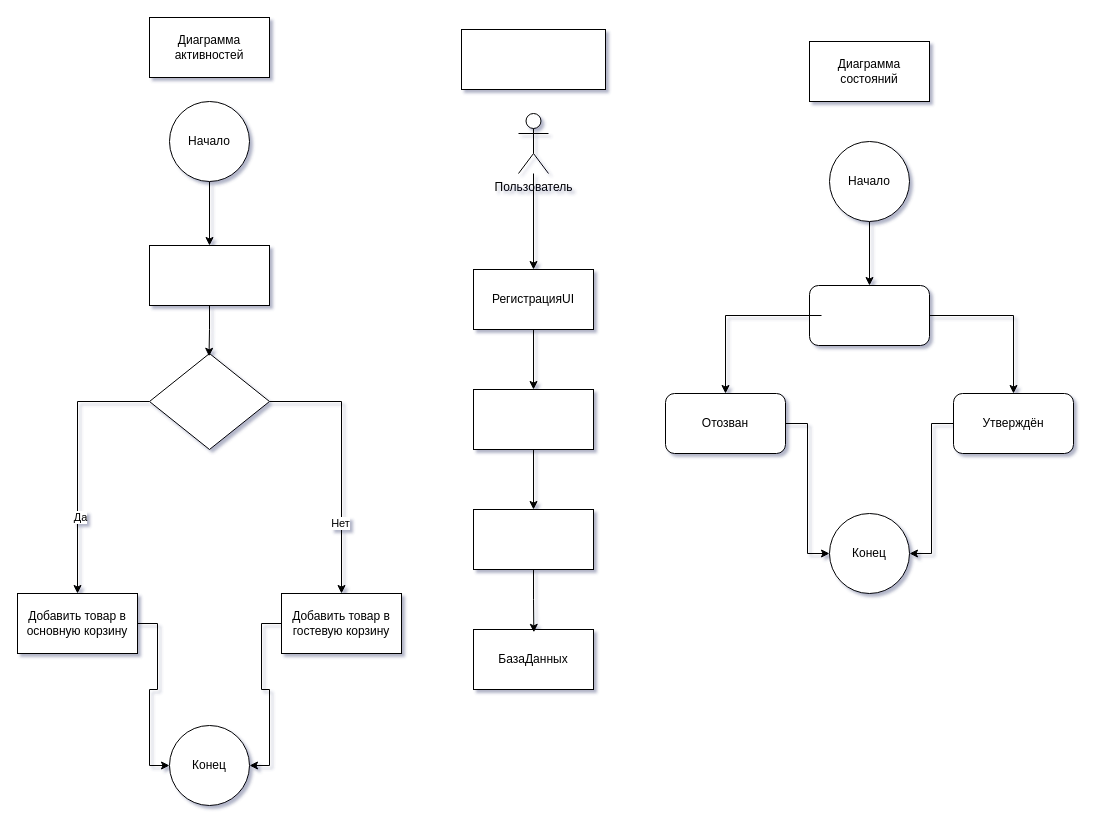
The diagram is 1097 pixels wide and 829 high, and some of its shapes have lost their labels. The centre of each missing label's shape, as x and y in pixels:
"CryptoModule" goes at point (533, 539).
"UserService" goes at point (533, 419).
"Диаграмма последовательности" goes at point (533, 59).
"На согласовании" goes at point (869, 315).
"Пользователь авторизован?" goes at point (209, 401).
"Пользователь добавляет товар в корзину" goes at point (209, 275).
